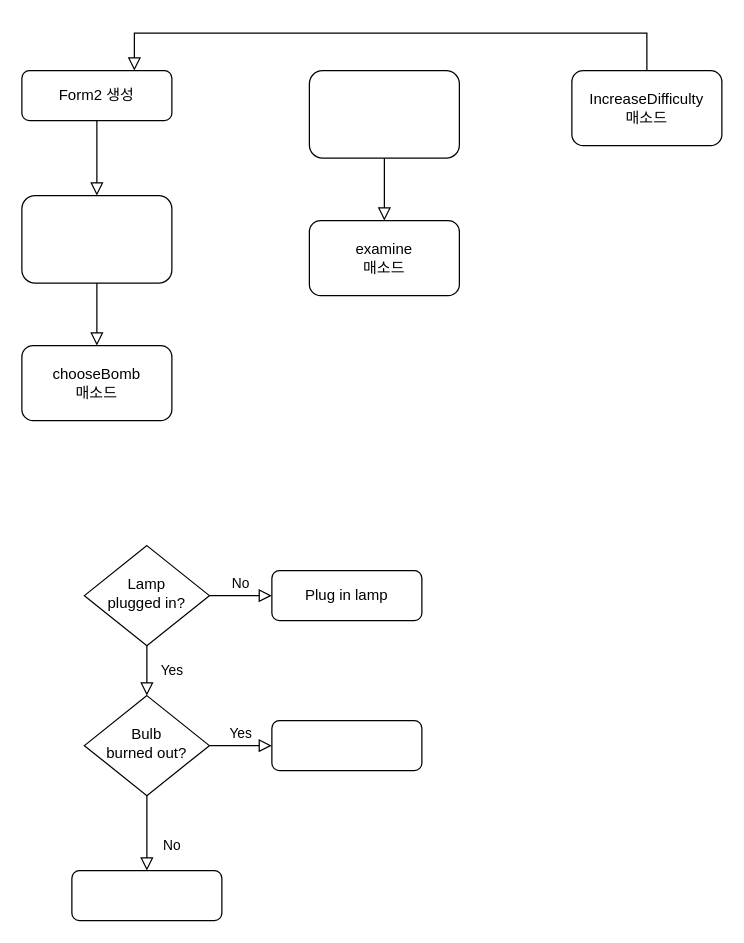
Image size: 744x943. Some labels were removed from this diagram. Each missing label, with the centre of its shape:
button_Click 매소드: the point at 383,113
makingStringButton 매소드: the point at 96,238
Repair Lamp: the point at 146,895
Replace Bulb: the point at 346,745
